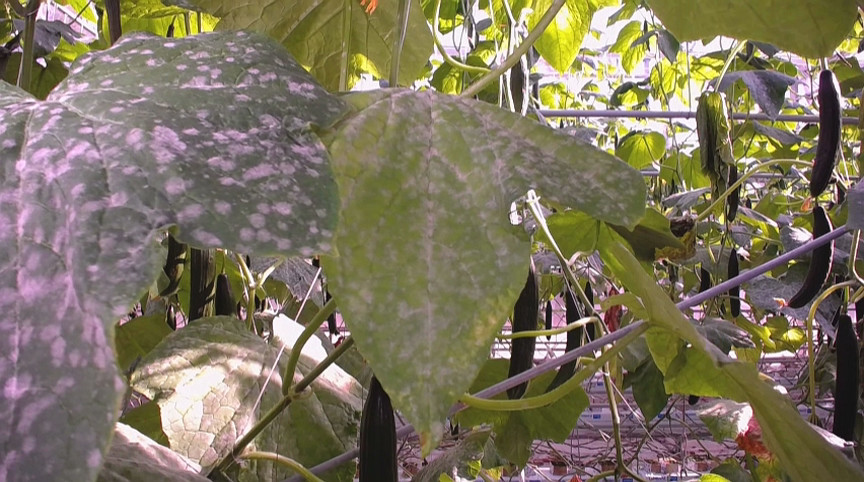cucumber: (786, 206, 835, 309), (808, 70, 843, 199), (508, 255, 538, 402), (360, 376, 397, 482), (546, 289, 583, 393), (834, 317, 859, 441), (188, 246, 217, 324), (724, 248, 742, 317), (216, 273, 236, 321)
